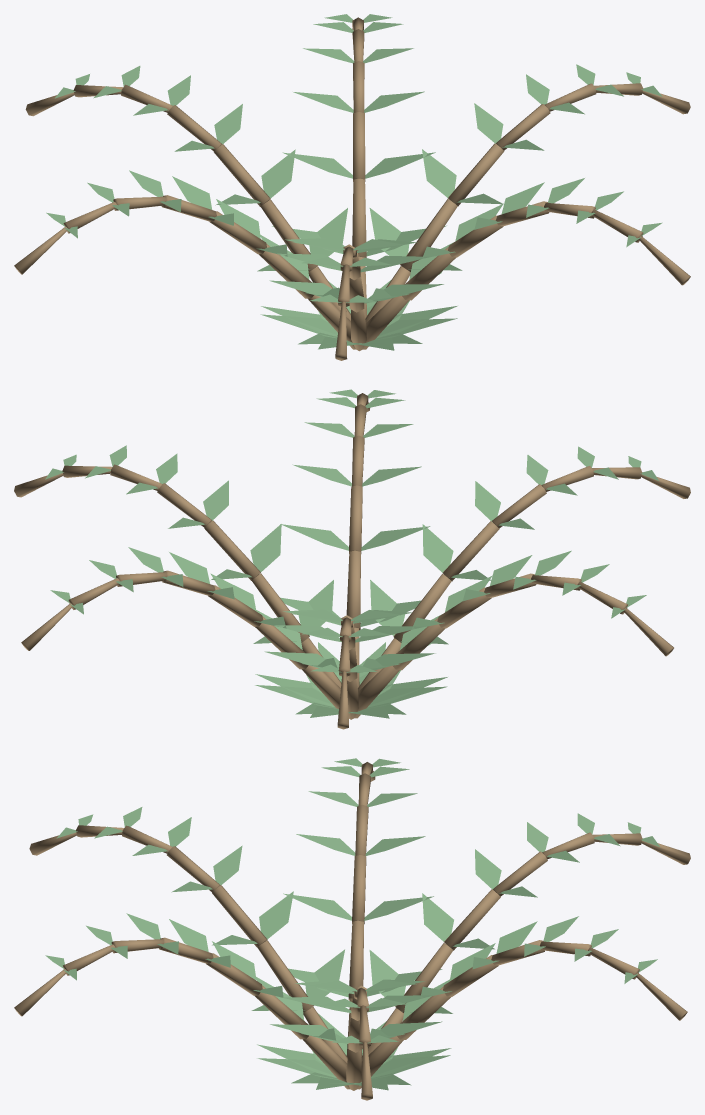
The model's file is fern.glb.
3 views of the same model, one above another, from view 1: azimuth 30°, elevation 25°; view 2: azimuth 150°, elevation 25°; view 3: azimuth 270°, elevation 25° (orthographic). The views are drawn at different scales.
Visible parts, largest first — view 1: org_fern; view 2: org_fern; view 3: org_fern.
Part boxes in pixels (x1,y1,x2,y2): org_fern: [14, 14, 690, 360]; org_fern: [14, 389, 690, 729]; org_fern: [14, 758, 690, 1100].
Bounding box in the file's own units: 0.8068 × 0.2344 × 0.7127.
